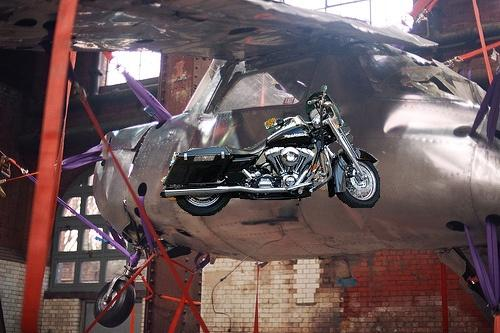tampered: (160, 86, 380, 216)
